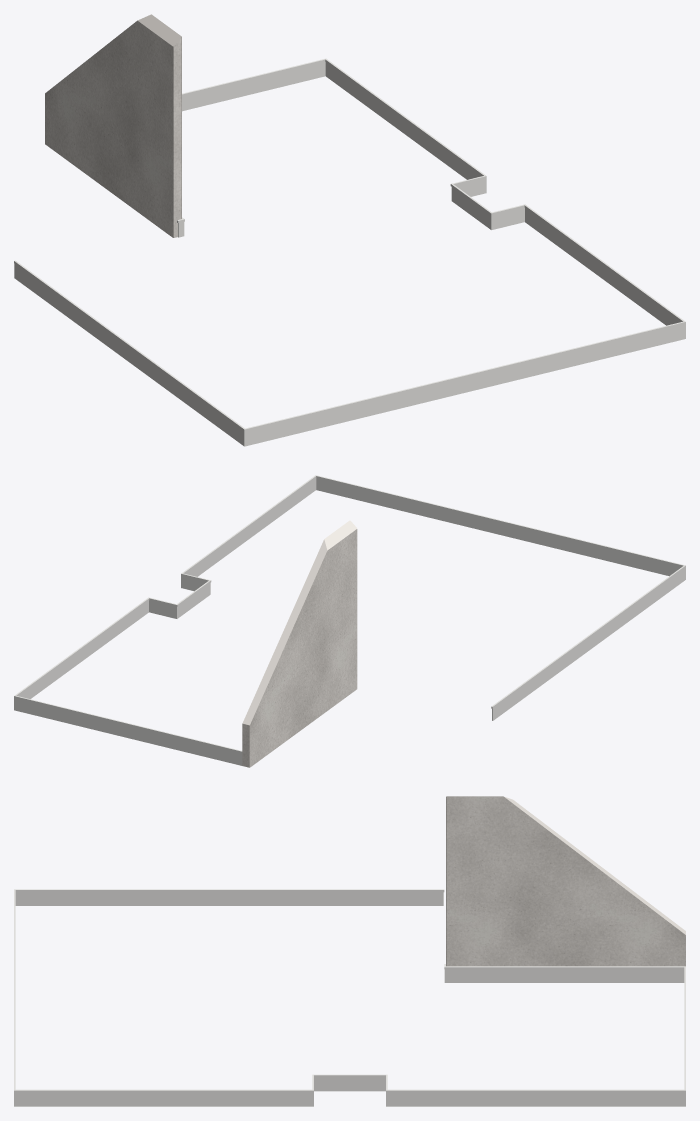
The model's file is walls_a_l.glb.
The picture shows the model from 3 angles, top to bottom: view 1: azimuth 30°, elevation 25°; view 2: azimuth 150°, elevation 25°; view 3: azimuth 270°, elevation 25°; orthographic projection. The views are drawn at different scales.
Parts seen in each view (by area): view 1: walls_a_l_trim, walls_a_l_plaster; view 2: walls_a_l_trim, walls_a_l_plaster; view 3: walls_a_l_plaster, walls_a_l_trim.
Boxes of the visible parts, bbox=[...] form: walls_a_l_trim: bbox=[14, 58, 685, 446]; walls_a_l_plaster: bbox=[45, 14, 181, 237]; walls_a_l_trim: bbox=[14, 475, 685, 765]; walls_a_l_plaster: bbox=[242, 520, 357, 767]; walls_a_l_plaster: bbox=[446, 796, 685, 966]; walls_a_l_trim: bbox=[14, 889, 685, 1106].
Bounding box in the file's own units: 5.95 × 2.56 × 8.4.
2 materials, 1 textured.
